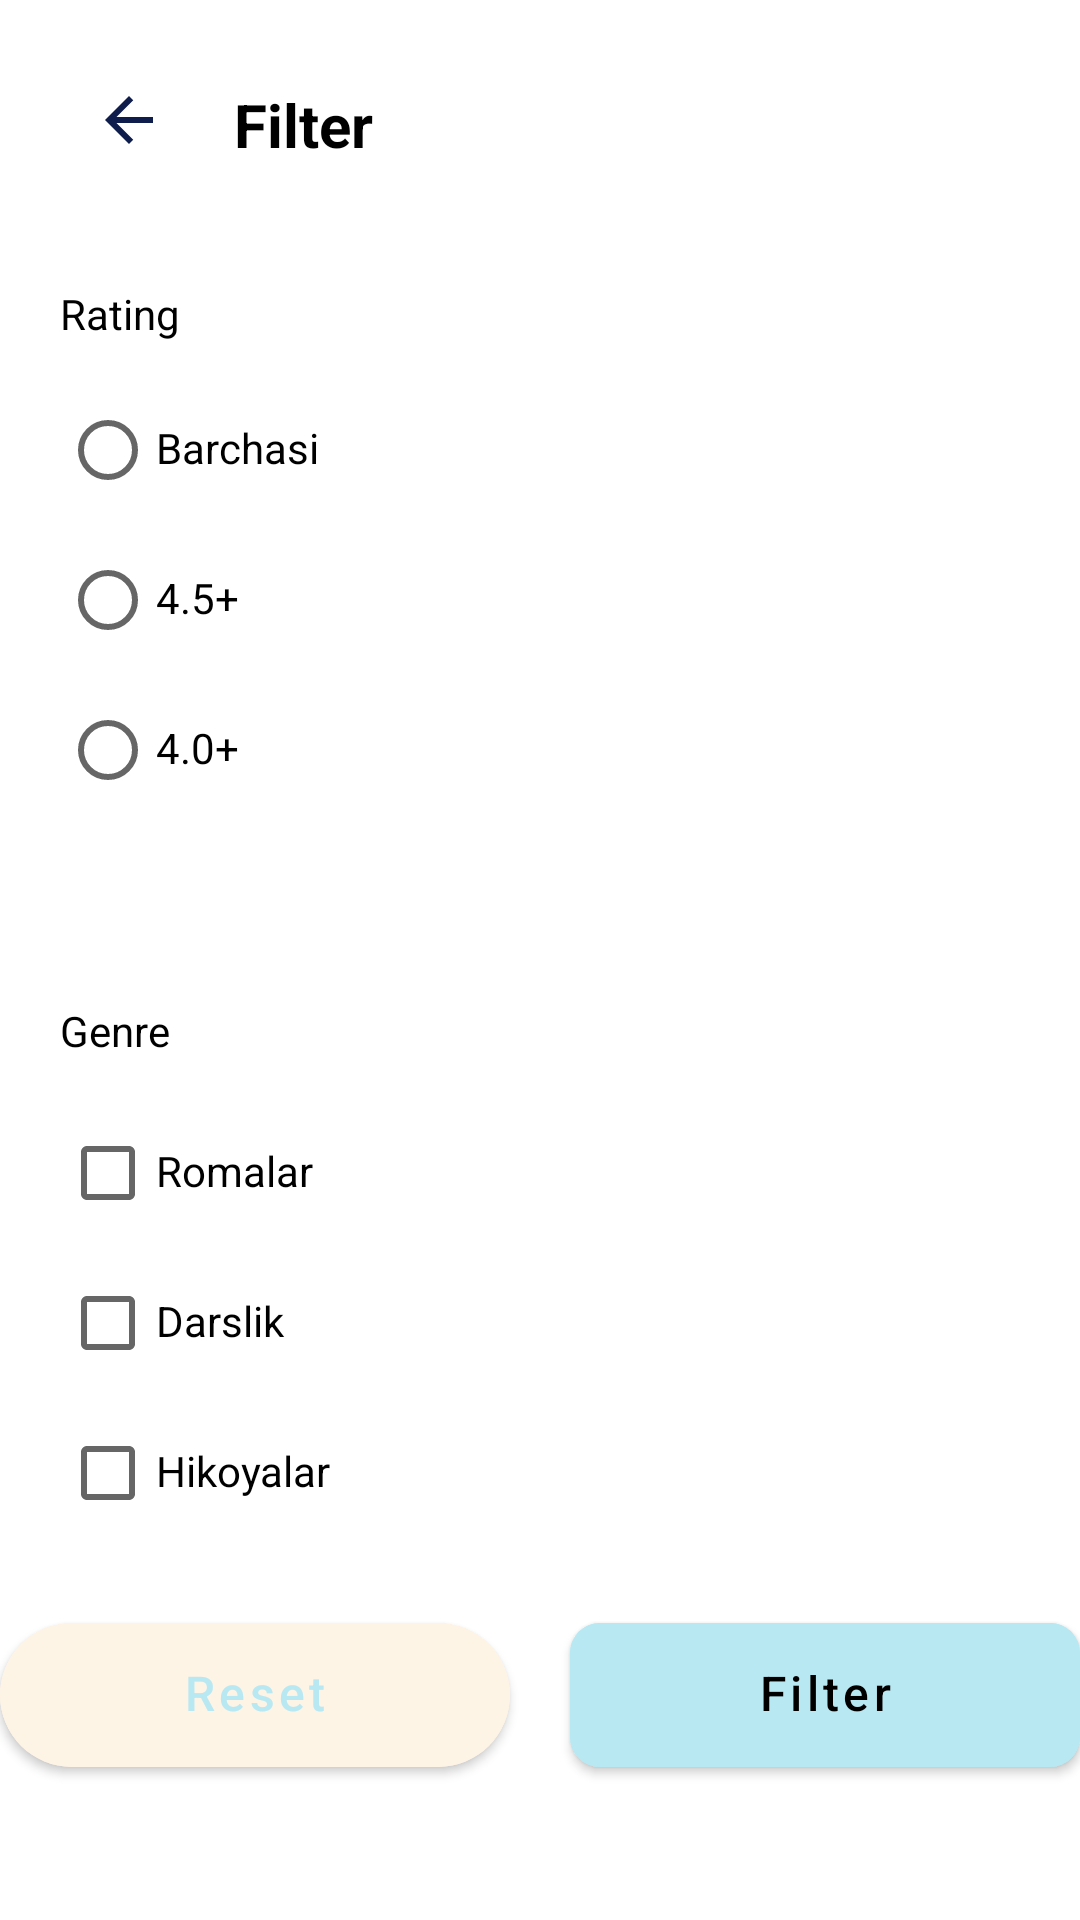

Screen size 1080w x 1920h. Icon name, then its box in pixels as (x1, y1, x2, y2):
arrow back: (105, 96, 153, 144)
